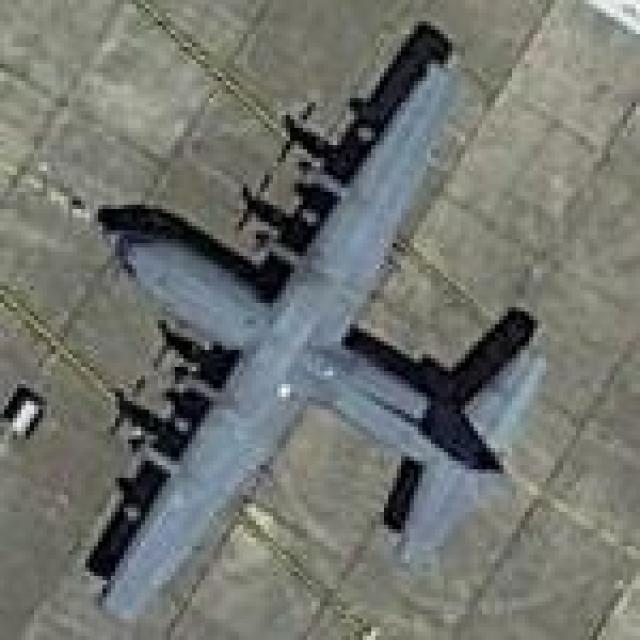C-130_TopDown: (77, 15, 561, 627)
